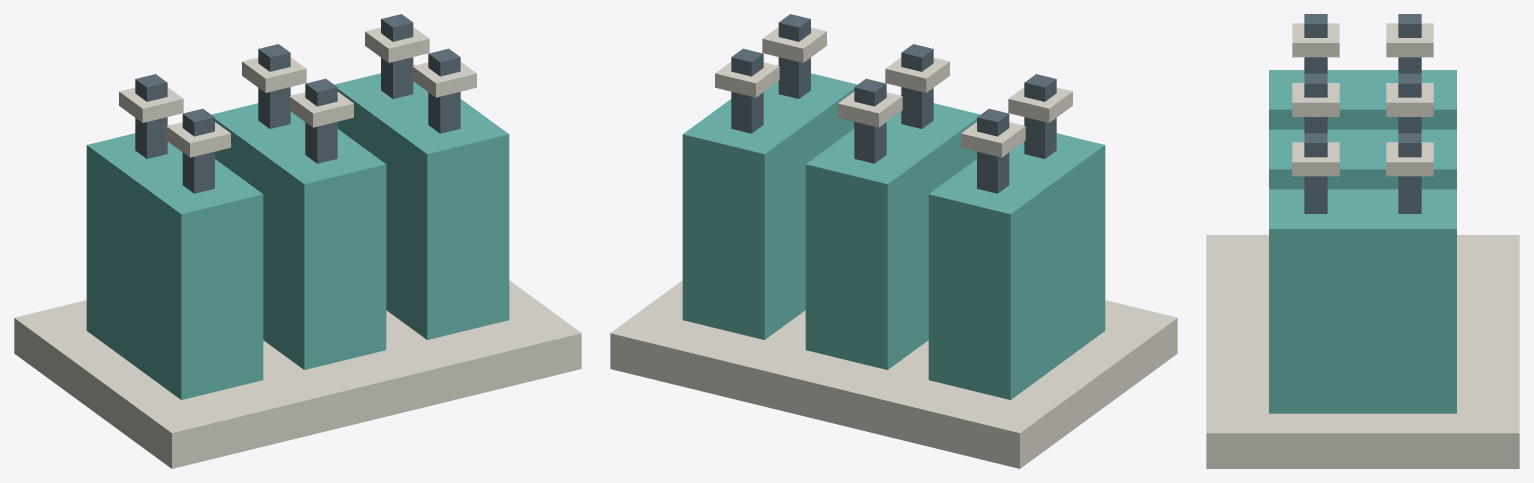
The model's file is voxel-city-districts-transformer-bank-271701a4__24845.glb.
The picture shows the model from 3 angles, left to right: view 1: azimuth 30°, elevation 25°; view 2: azimuth 150°, elevation 25°; view 3: azimuth 270°, elevation 25°; orthographic projection.
Visible parts, largest first — view 1: transformer-bank-accent, transformer-bank-concrete, transformer-bank-dark; view 2: transformer-bank-accent, transformer-bank-concrete, transformer-bank-dark; view 3: transformer-bank-accent, transformer-bank-concrete, transformer-bank-dark.
Boxes of the visible parts, left/top/right/bottom form: transformer-bank-accent: left=86, top=65, right=509, bottom=399; transformer-bank-concrete: left=14, top=27, right=581, bottom=468; transformer-bank-dark: left=135, top=14, right=460, bottom=193; transformer-bank-accent: left=682, top=65, right=1105, bottom=399; transformer-bank-concrete: left=610, top=27, right=1177, bottom=468; transformer-bank-dark: left=731, top=14, right=1056, bottom=193; transformer-bank-accent: left=1269, top=70, right=1456, bottom=413; transformer-bank-concrete: left=1206, top=23, right=1519, bottom=468; transformer-bank-dark: left=1304, top=14, right=1421, bottom=213.
Size of the model in its own units: 3 by 2.05 by 2.
